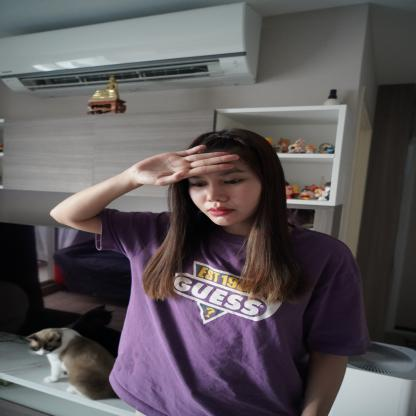Sick: (120, 142, 242, 190)
